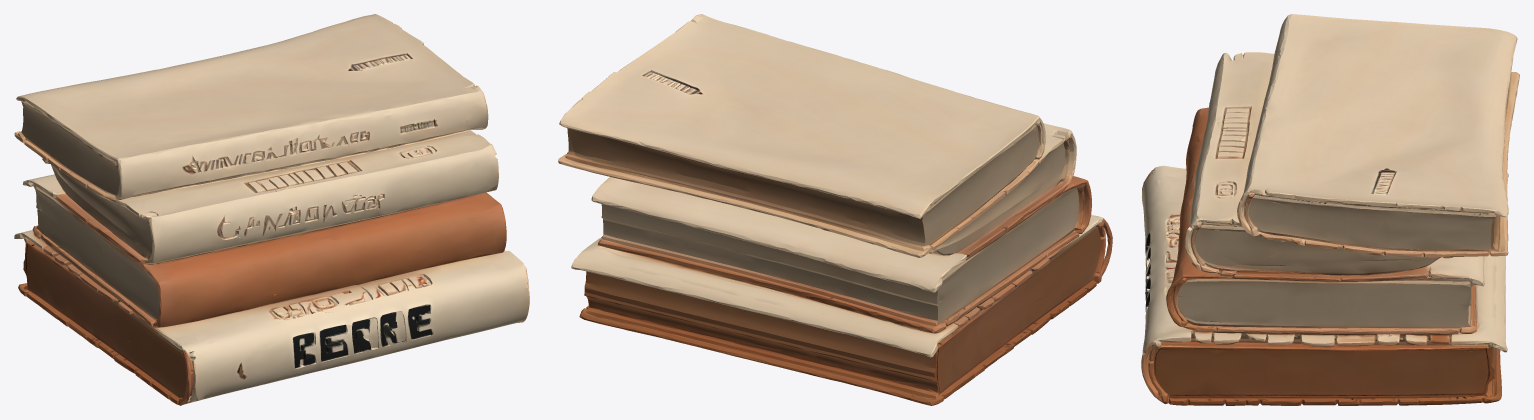
Rendered from books.glb.
3 renders of one model, left to right at view 1: azimuth 30°, elevation 25°; view 2: azimuth 150°, elevation 25°; view 3: azimuth 270°, elevation 25°, orthographic. The views are drawn at different scales.
Parts seen in each view (by area): view 1: model; view 2: model; view 3: model.
Boxes of the visible parts, x1,y1,x2,y2 form: model: (14,14,529,405); model: (558,14,1112,405); model: (1141,14,1519,405).
Size of the model in its own units: 1.9 by 1.04 by 1.63.
1 material, 1 textured.
